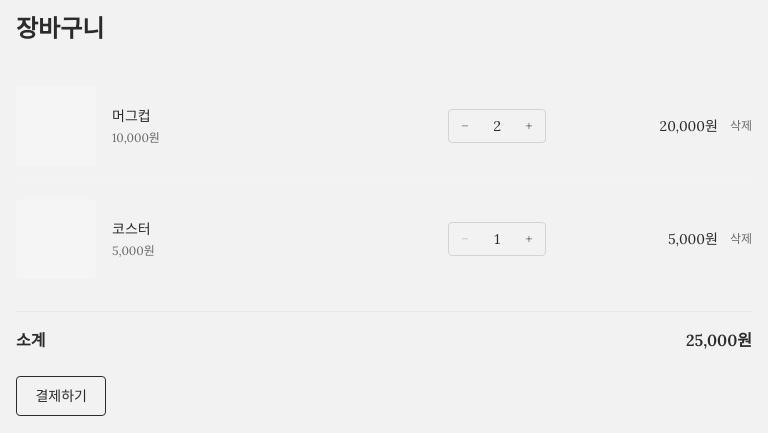
Test: CartView — AC-STOREFRONT-020 › shows the rejection on the failing row only, and leaves the cart state unchanged
Click the button named "머그컵 수량 증가" at (529, 126), box left=513, top=110, right=545, bottom=142
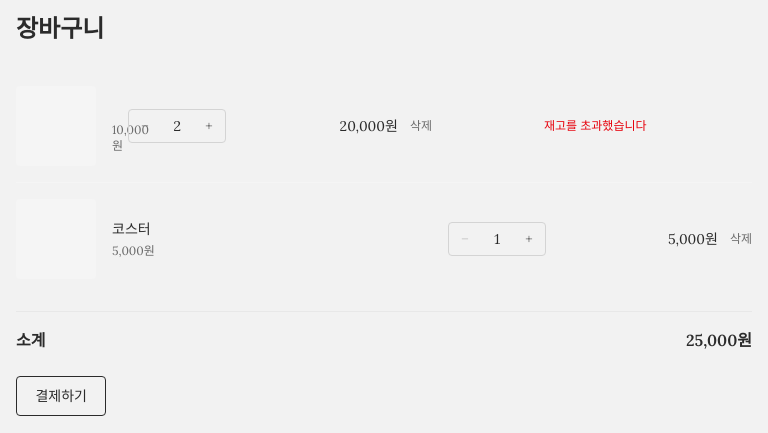
Expected: the text "20,000" is shown, left=340, top=117, right=398, bottom=135
Now the message reads "재고를 초과했습니다", box left=544, top=118, right=646, bottom=133
